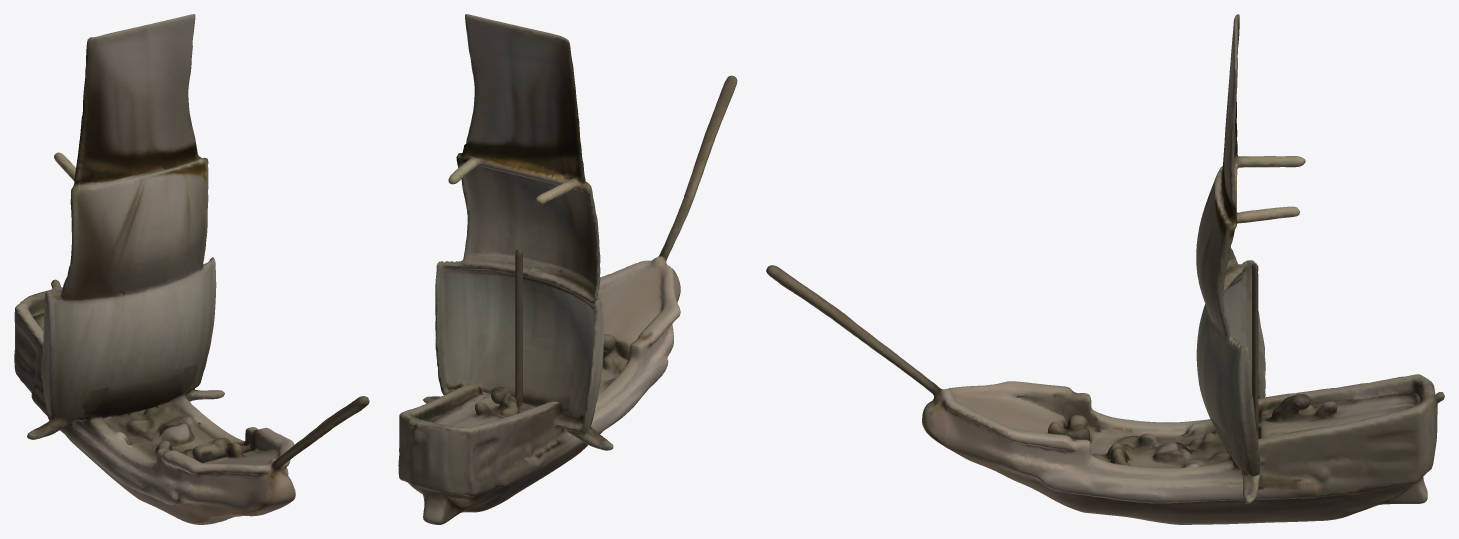
File: ship-model-karasancak-1yelken.glb
3 renders of one model, left to right at view 1: azimuth 30°, elevation 25°; view 2: azimuth 150°, elevation 25°; view 3: azimuth 270°, elevation 25°, orthographic. The views are drawn at different scales.
Visible parts, largest first — view 1: mesh_node; view 2: mesh_node; view 3: mesh_node.
Boxes of the visible parts, box(x1,y1,x2,y2) form: mesh_node: box(14, 14, 369, 524); mesh_node: box(398, 14, 737, 524); mesh_node: box(766, 14, 1444, 524).
Size of the model in its own units: 0.1677 by 0.3768 by 0.4794.
Materials: 1 (1 with a texture image).
